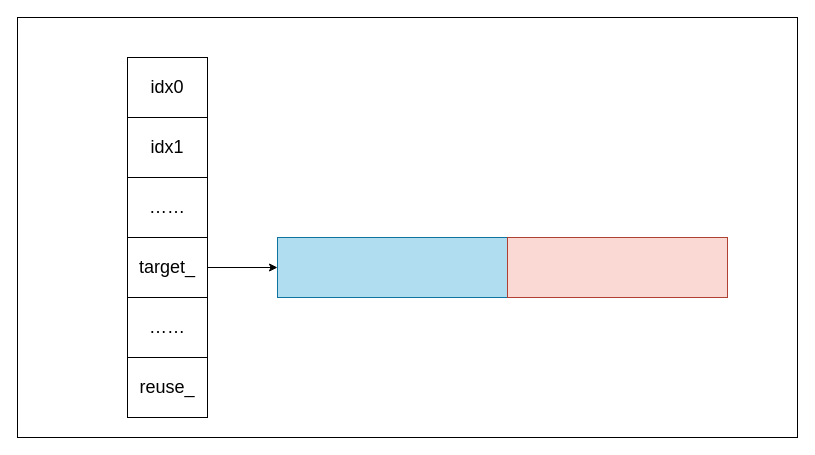
This 815x455 diagram has some shape labels left out. The centre of each missing label's shape, as x and y in pixels:
"x->title_使用" belongs at (617,267).
"y号留言使用" belongs at (392,267).
